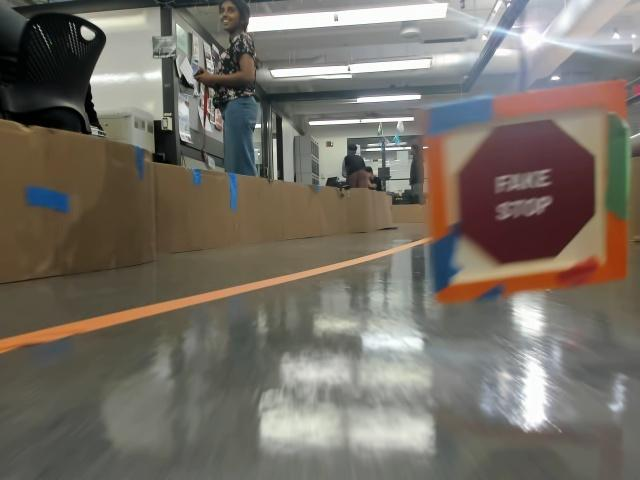Fake Stop: (450, 127, 591, 267)
